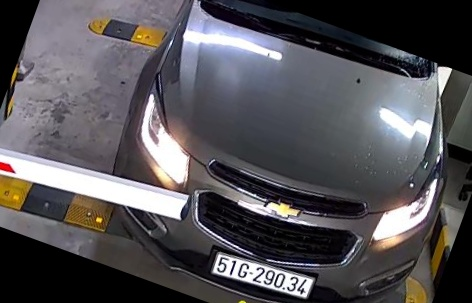plate: (210, 243, 314, 296)
